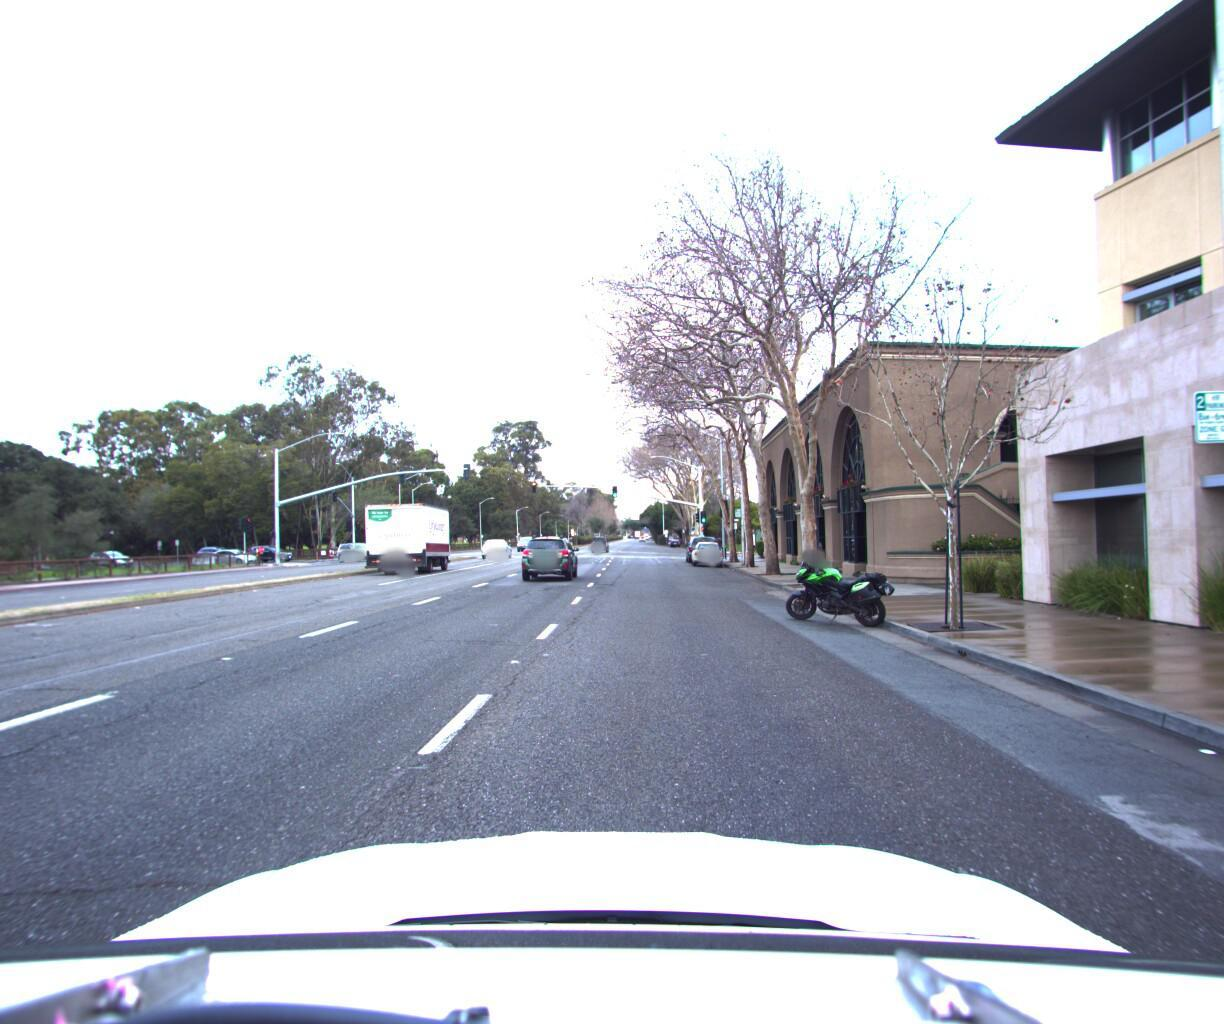car: (519, 528, 582, 579), (684, 527, 722, 558), (245, 539, 299, 558), (691, 533, 726, 561), (480, 532, 515, 553), (591, 529, 613, 547)
motorcycle: (776, 532, 907, 625)
truck: (362, 497, 465, 571)
